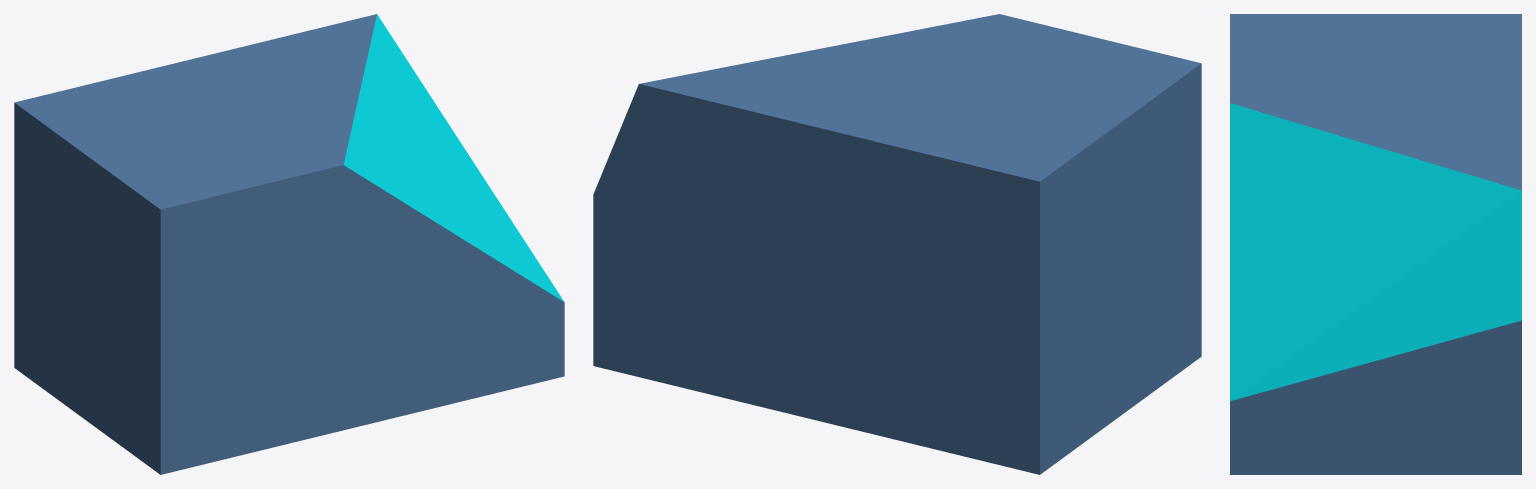
3 views of the same model, side by side, from view 1: azimuth 30°, elevation 25°; view 2: azimuth 150°, elevation 25°; view 3: azimuth 270°, elevation 25° (orthographic). The views are drawn at different scales.
Parts seen in each view (by area): view 1: base; view 2: base; view 3: base.
Boxes of the visible parts, bbox=[...] form: base: bbox=[14, 14, 564, 474]; base: bbox=[593, 14, 1201, 474]; base: bbox=[1230, 14, 1521, 474].
Size of the model in its own units: 92.98 by 58.33 by 58.33.
